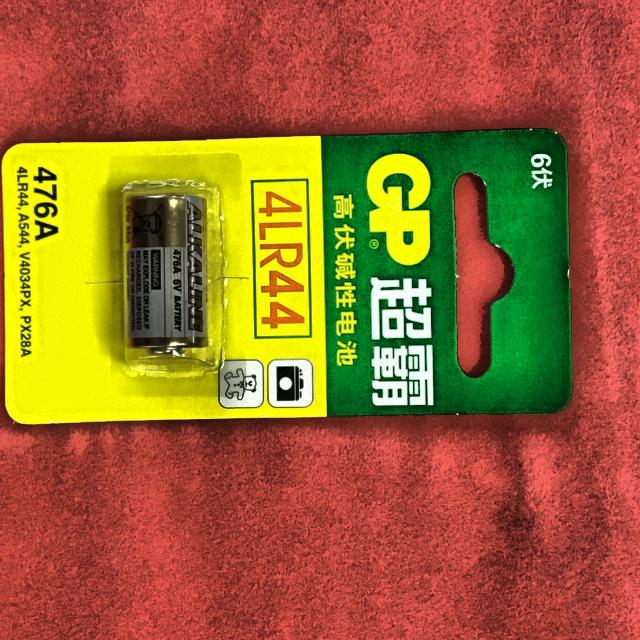Non-Valuable Waste - Batteries: (126, 195, 206, 346)
